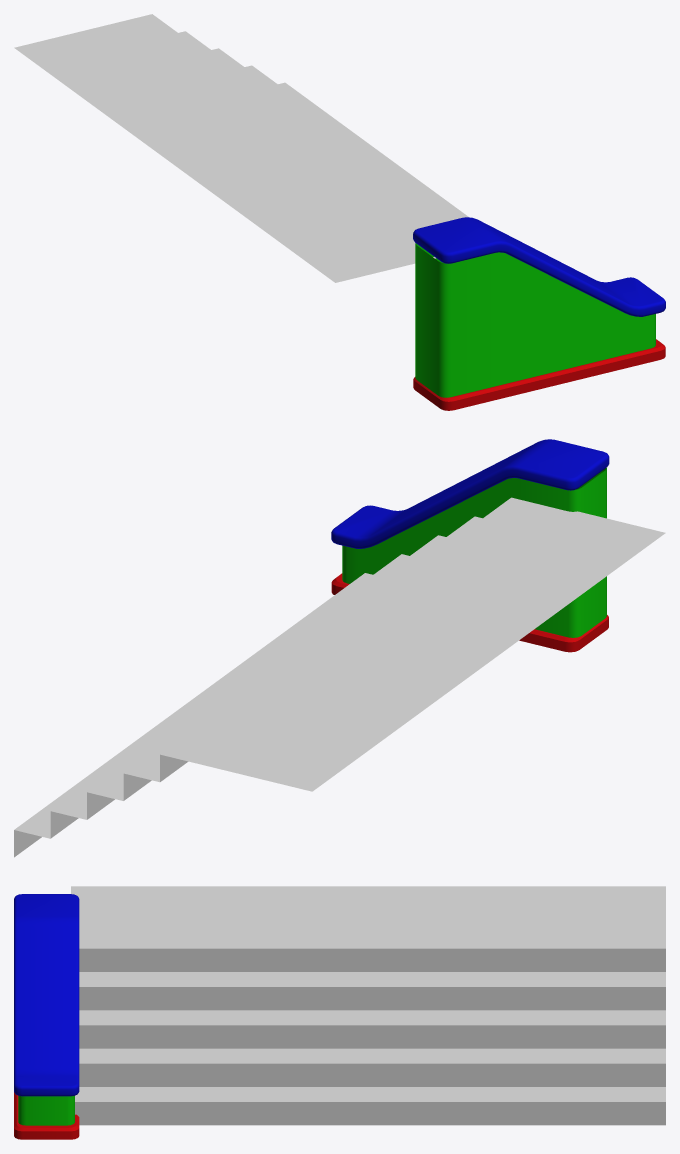
Rendered from Stairs.fbx.
3 renders of one model, top to bottom at view 1: azimuth 30°, elevation 25°; view 2: azimuth 150°, elevation 25°; view 3: azimuth 270°, elevation 25°, orthographic. The views are drawn at different scales.
Visible parts, largest first — view 1: Cube.334, Cube.335; view 2: Cube.334, Cube.335; view 3: Cube.334, Cube.335.
Boxes of the visible parts, <box> form: Cube.334: <box>14,14,468,282</box>; Cube.335: <box>413,217,665,410</box>; Cube.334: <box>14,497,665,857</box>; Cube.335: <box>331,439,609,652</box>; Cube.334: <box>71,886,665,1125</box>; Cube.335: <box>14,894,79,1139</box>.
Bounding box in the file's own units: 402 × 810 × 200.
